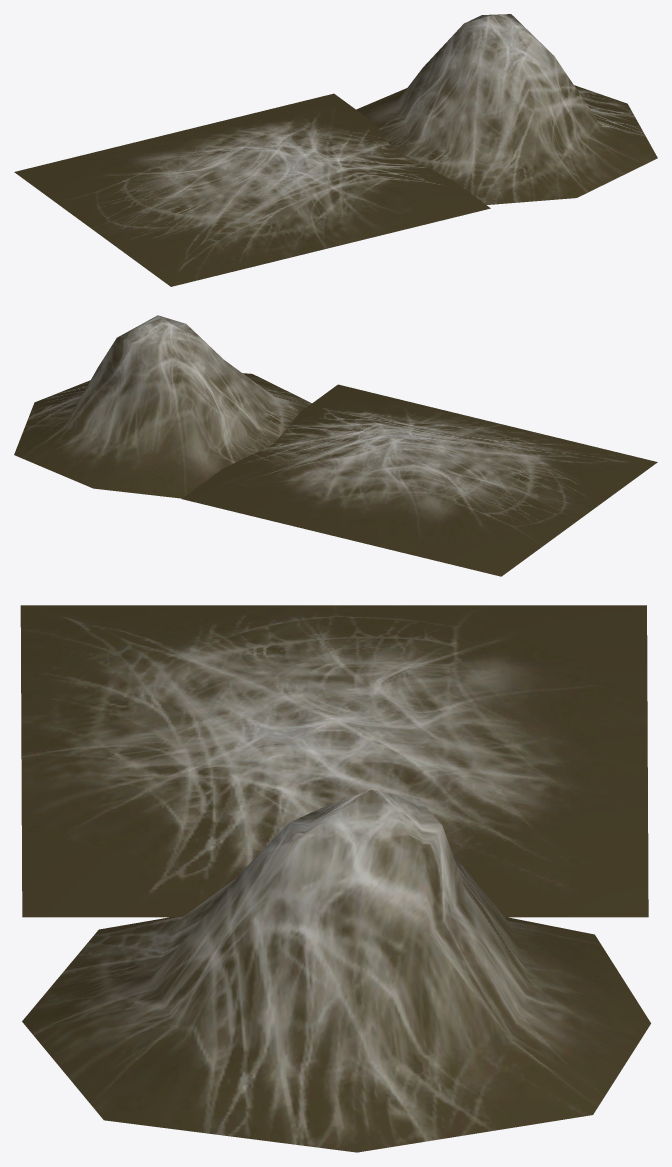
The model's file is zw_zhuwang1.FBX.
3 views of the same model, one above another, from view 1: azimuth 30°, elevation 25°; view 2: azimuth 150°, elevation 25°; view 3: azimuth 270°, elevation 25° (orthographic). The views are drawn at different scales.
Parts seen in each view (by area): view 1: zw_zhizhuwang, zhuwang_1; view 2: zw_zhizhuwang, zhuwang_1; view 3: zw_zhizhuwang, zhuwang_1.
Boxes of the visible parts, <box> form: zw_zhizhuwang: <box>14,93,490,286</box>; zhuwang_1: <box>356,14,657,204</box>; zw_zhizhuwang: <box>182,384,657,576</box>; zhuwang_1: <box>14,315,311,498</box>; zw_zhizhuwang: <box>20,605,648,917</box>; zhuwang_1: <box>22,789,650,1152</box>.
Size of the model in its own units: 363 by 75.73 by 184.
